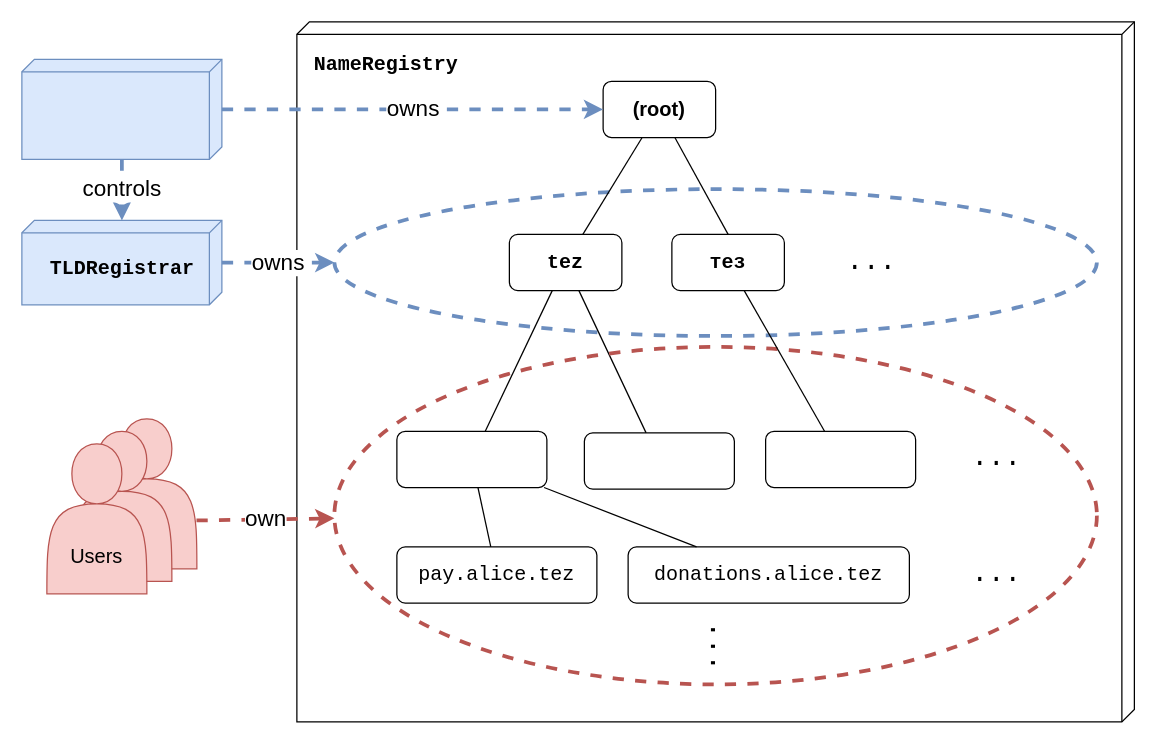
This 1156x744 diagram has some shape labels left out. The box of each missing label's shape, as (x1, y1, x2, y2) in pixels:
Administrative Multisig: (21, 58, 222, 159)
alice.tez: (396, 430, 547, 488)
bob.tez: (583, 432, 734, 489)
алице. тез: (764, 430, 916, 488)
